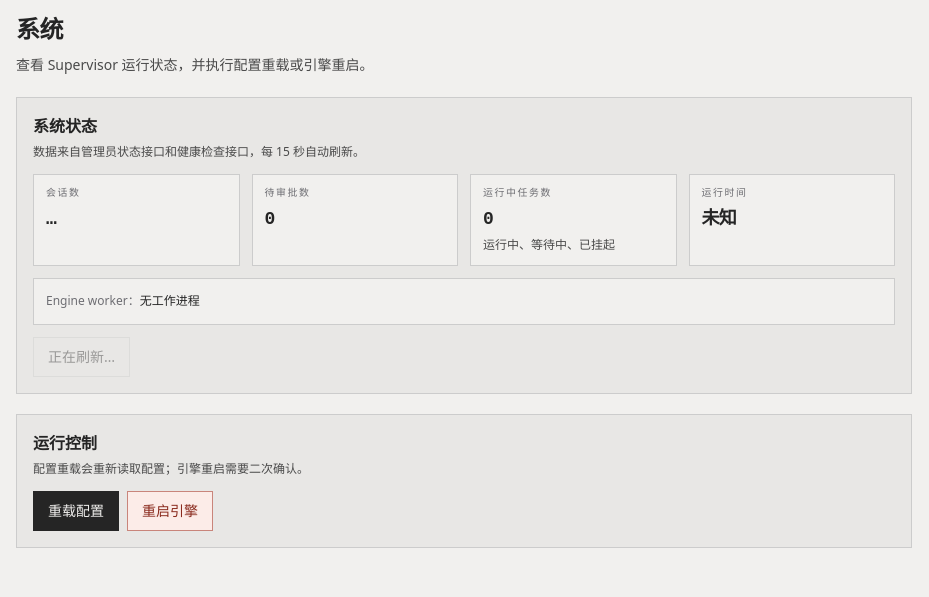
it: 被拒的重启在界面上 › 系统设置页碰上缺字段的回复不当成排上了
Click the button "重启引擎".
click(170, 511)  # box x1=127 y1=491 x2=213 y2=531
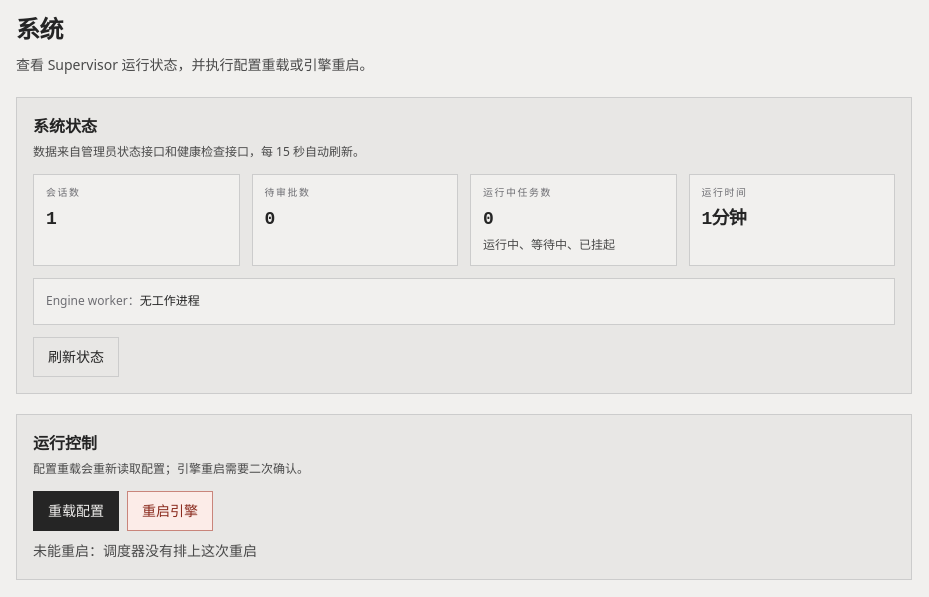
Result: the message reads "未能重启：调度器没有排上这次重启" at x1=33 y1=541 x2=257 y2=560
